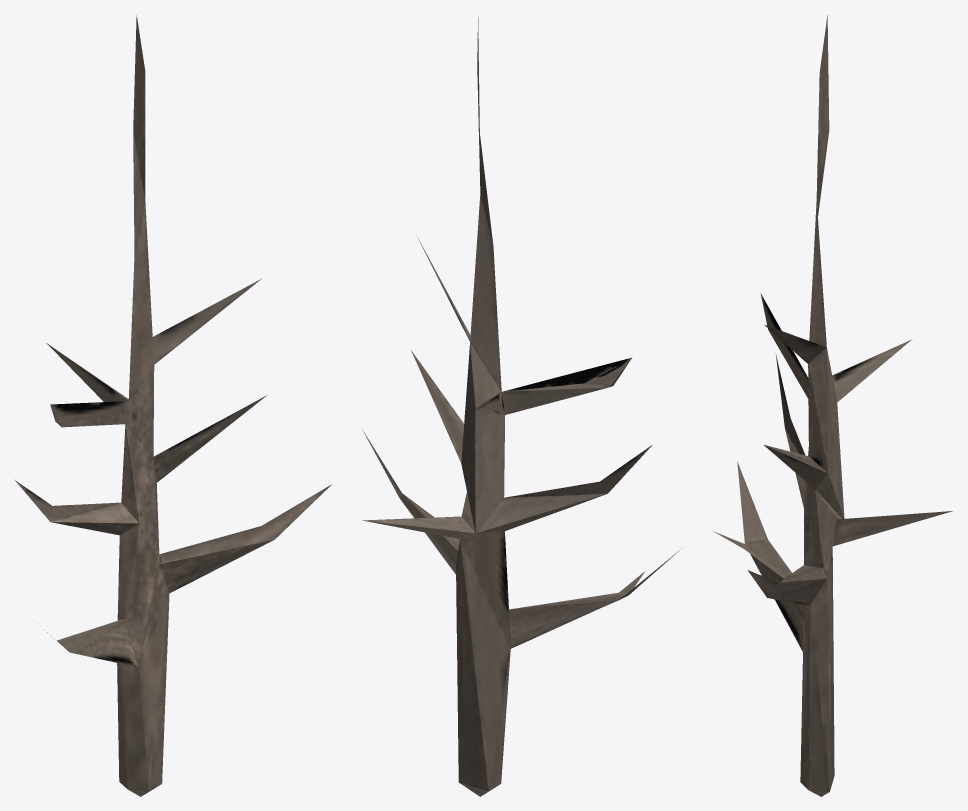
3 renders of one model, left to right at view 1: azimuth 30°, elevation 25°; view 2: azimuth 150°, elevation 25°; view 3: azimuth 270°, elevation 25°, orthographic.
Parts seen in each view (by area): view 1: output_unwrapped; view 2: output_unwrapped; view 3: output_unwrapped.
Part boxes in pixels (bbox=[...]): output_unwrapped: bbox=[14, 15, 331, 796]; output_unwrapped: bbox=[362, 17, 679, 796]; output_unwrapped: bbox=[713, 15, 952, 796].
Bounding box in the file's own units: 0.8457 × 2 × 0.5605.
1 material, 1 textured.
